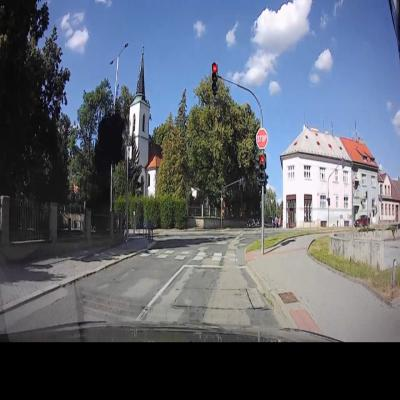clear-road: (105, 233, 269, 310)
